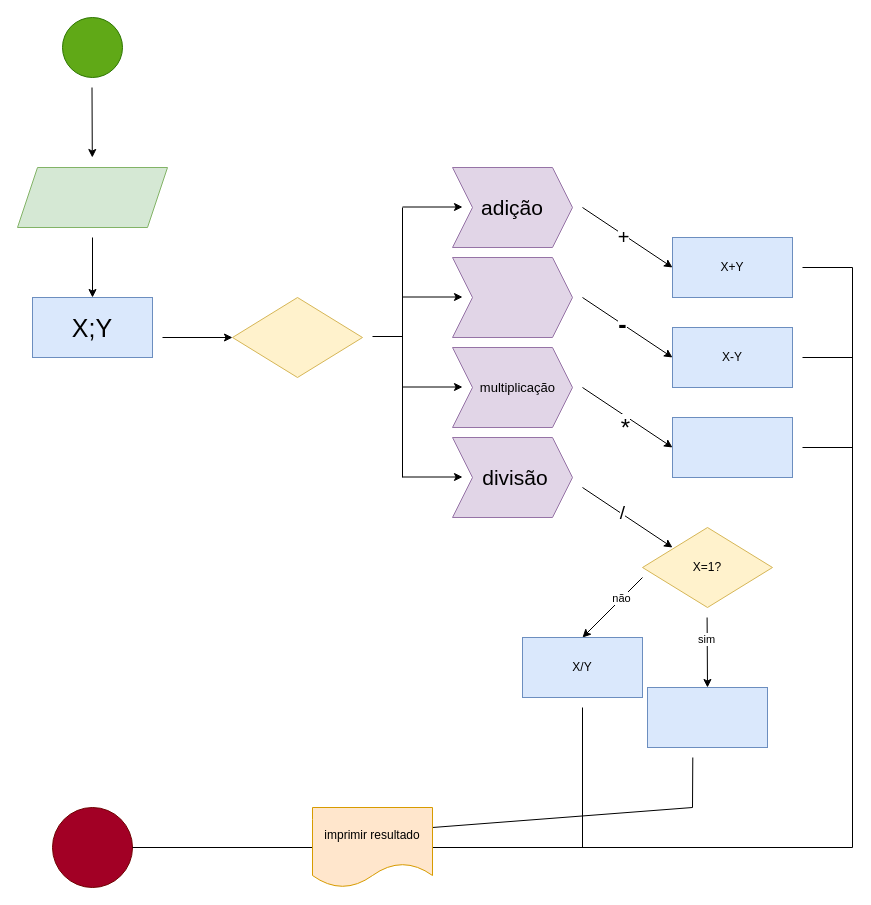
This 871x905 diagram has some shape labels left out. The shapes that lost their labels are listed below. From the top down, each one's box as (x1, y1, x2, y2) in pixels, then its label:
(16, 166, 168, 228): informe um valor
(452, 256, 572, 338): subtração
(232, 296, 362, 378): qual operação matematica?
(672, 416, 792, 478): X*Y
(646, 686, 768, 748): X=1
